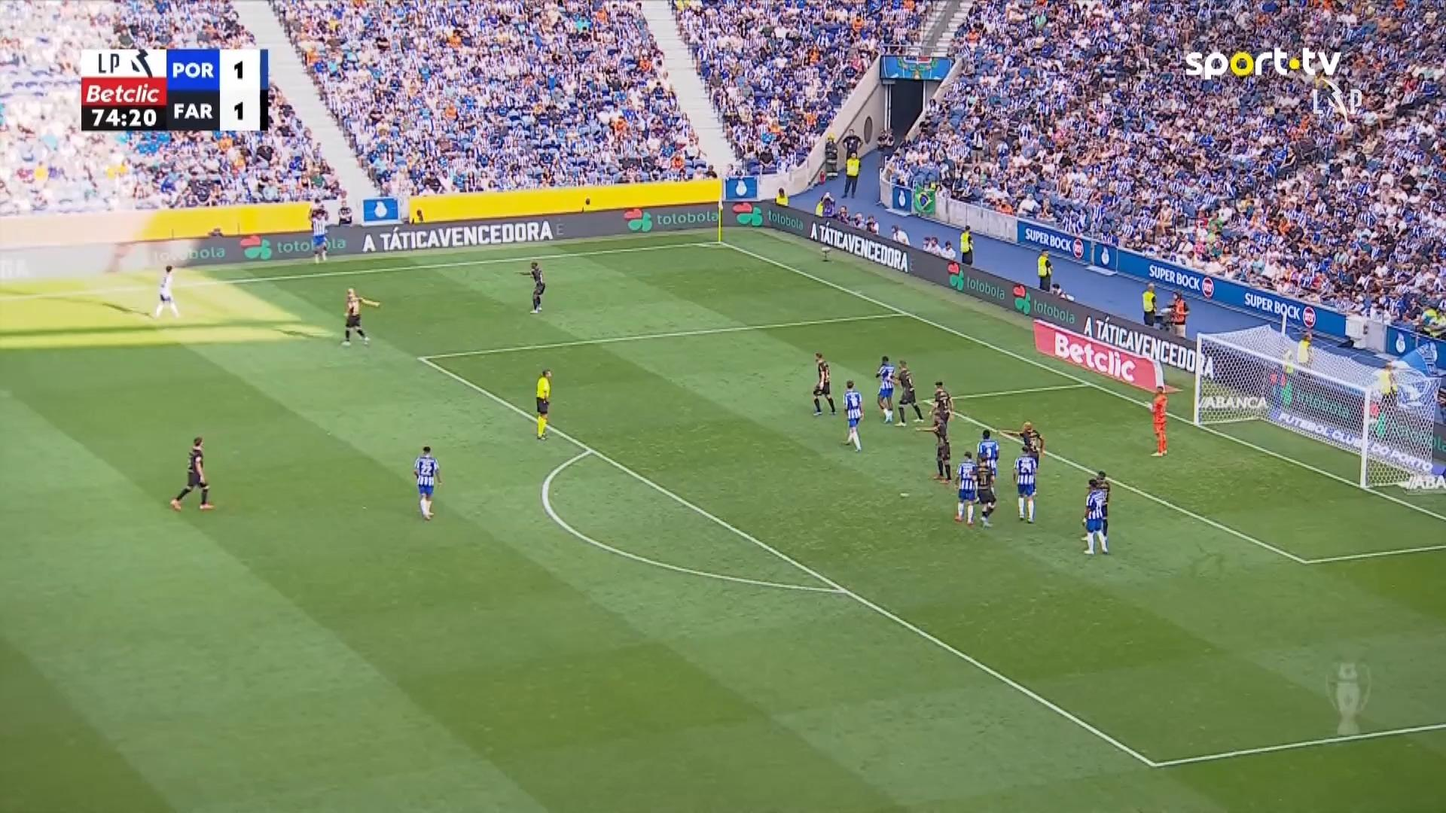goalkeeper: (1149, 384, 1169, 456)
player: (169, 436, 215, 510), (996, 419, 1045, 470), (1081, 470, 1110, 554), (340, 287, 380, 346), (412, 445, 441, 520), (1011, 445, 1038, 522), (929, 399, 953, 482), (894, 358, 923, 426), (953, 450, 979, 524), (974, 455, 997, 527), (841, 379, 863, 452), (811, 352, 836, 416), (151, 263, 179, 318), (874, 355, 896, 424), (975, 428, 999, 487), (309, 206, 329, 263), (528, 260, 545, 313)
referee: (534, 368, 552, 440)
